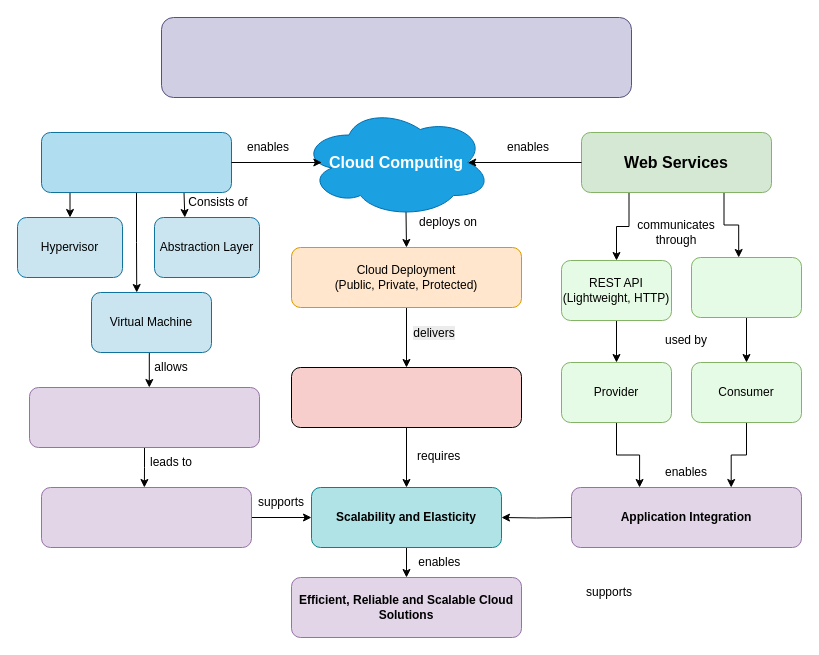
This 819x655 diagram has some shape labels left out. Here are the shapes that lost their labels. From the top down, the centre of each, then its label:
At pixel 396 57: "Virtualization and Web Services as Enablers of Cloud Computing".
At pixel 136 162: "Virtualization".
At pixel 746 287: "SOAP API (Standard, XML)".
At pixel 144 417: "Resource Pooling".
At pixel 406 397: "Cloud Services (IaaS, PaaS, SaaS, XaaS)".
At pixel 146 517: "Flexible Resource Allocation".
